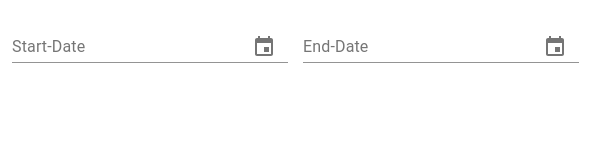
Scenario: <DateRange> › error if date format invalid
Type "08/36/2019" into the field with id "kdp-startDate" at (122, 47), box [12,31,232,63]
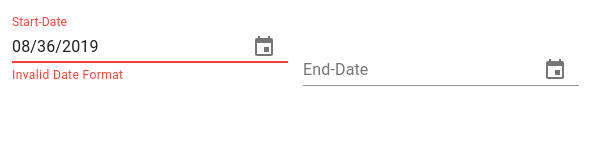
Type "13/12/2019" into the field with id "kdp-endDate" at (413, 70), box [303,54,523,86]
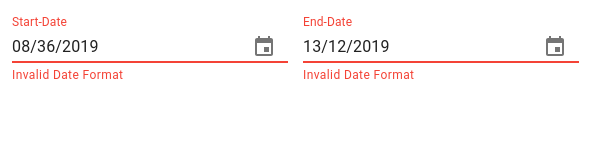
Check: the text with id "kdp-startDate-helper-text" reads "Invalid Date Format", box [12,68,123,82]
Check: the text with id "kdp-endDate-helper-text" reads "Invalid Date Format", box [303,68,414,82]
